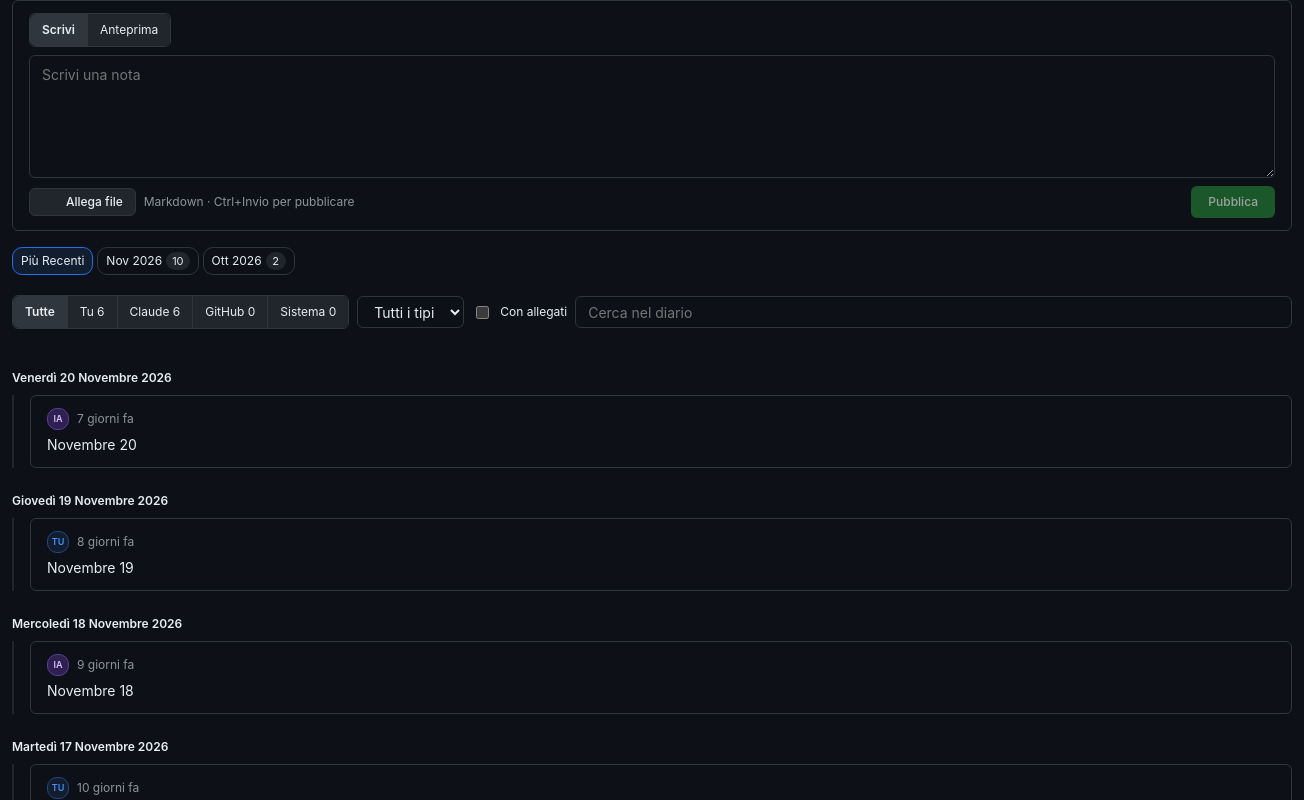
Test: verifyC: long diary › jumping to a month asks the server from the end of that month and Latest returns
Click the button "ott 2026 2" at (249, 261), box [203,247,295,275]
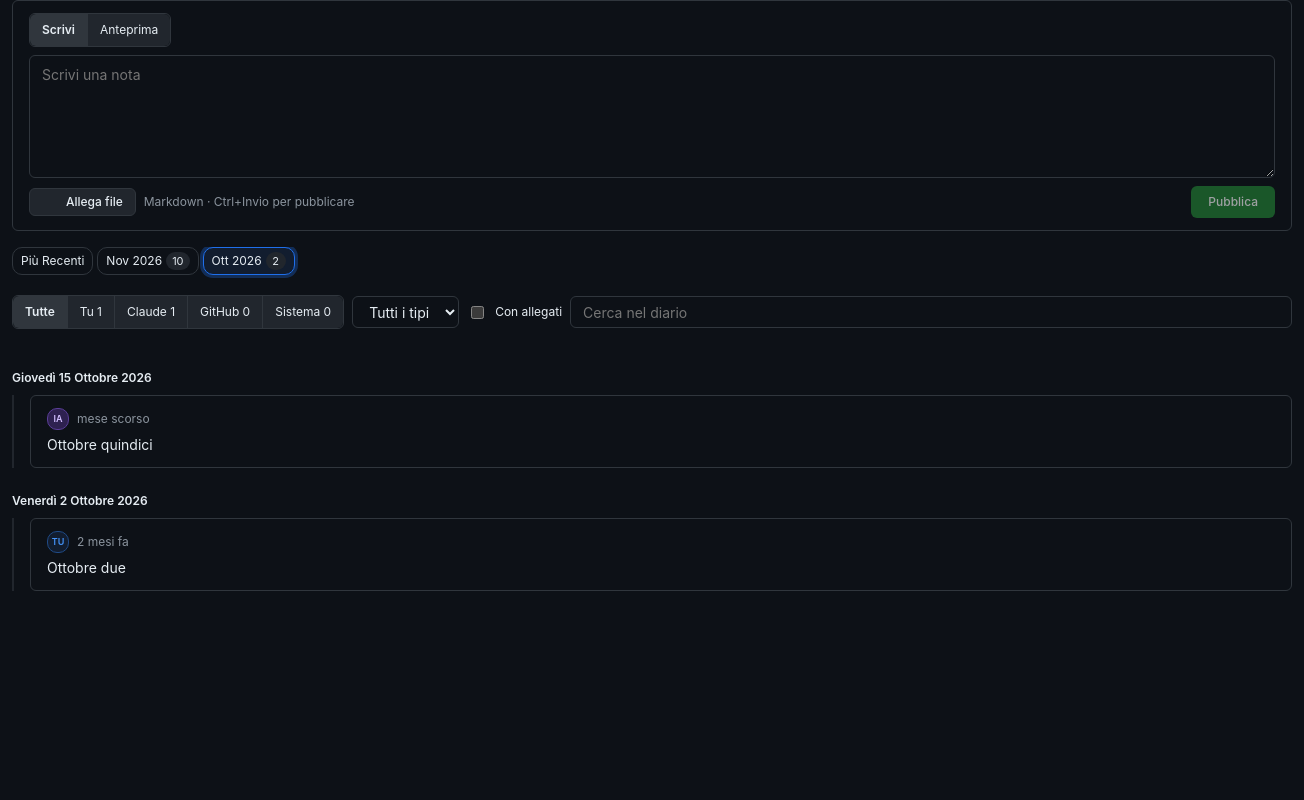
Expected: the text "Ottobre quindici" is shown, [47,436,153,453]
Expected: the button "novembre 20" is gone
Click the button "Più recenti" at (53, 261), box [12,247,93,275]
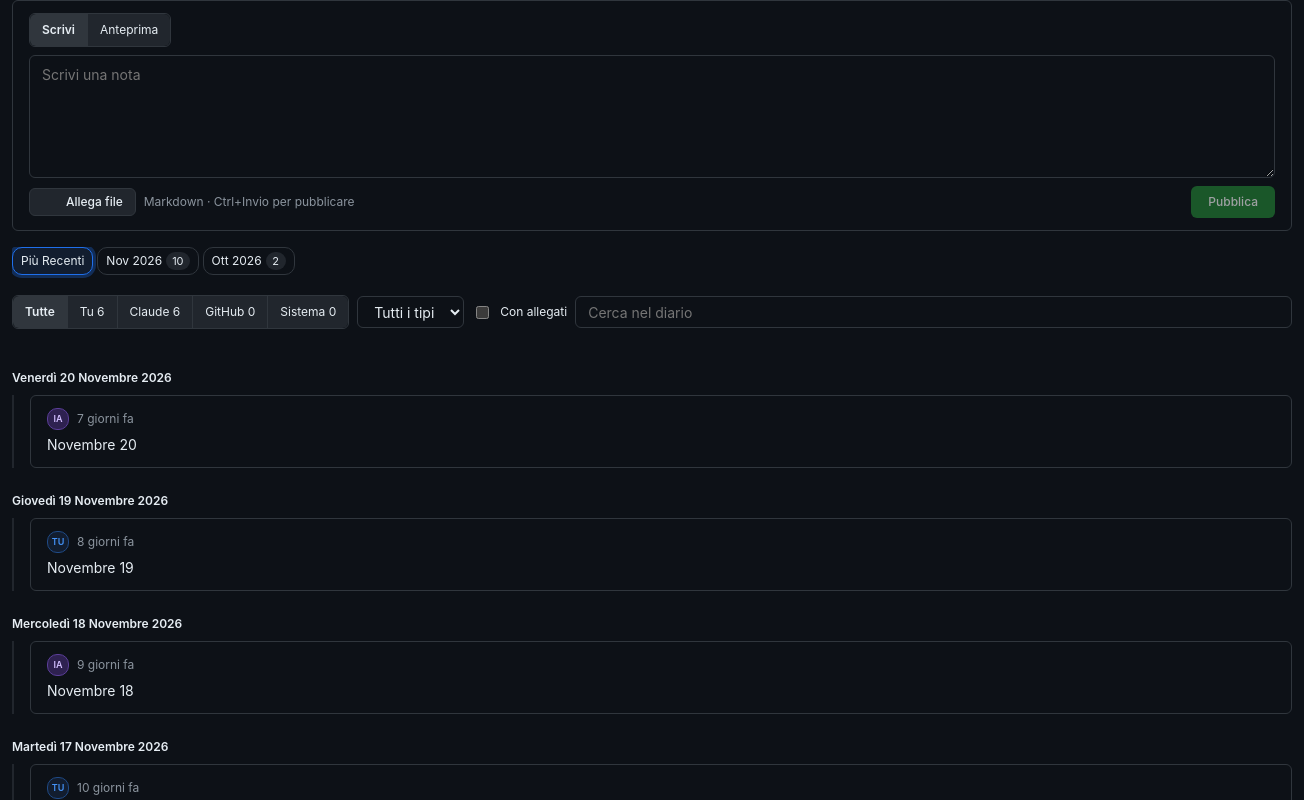
Expected: the text "Novembre 20" is shown, [47,436,137,453]
